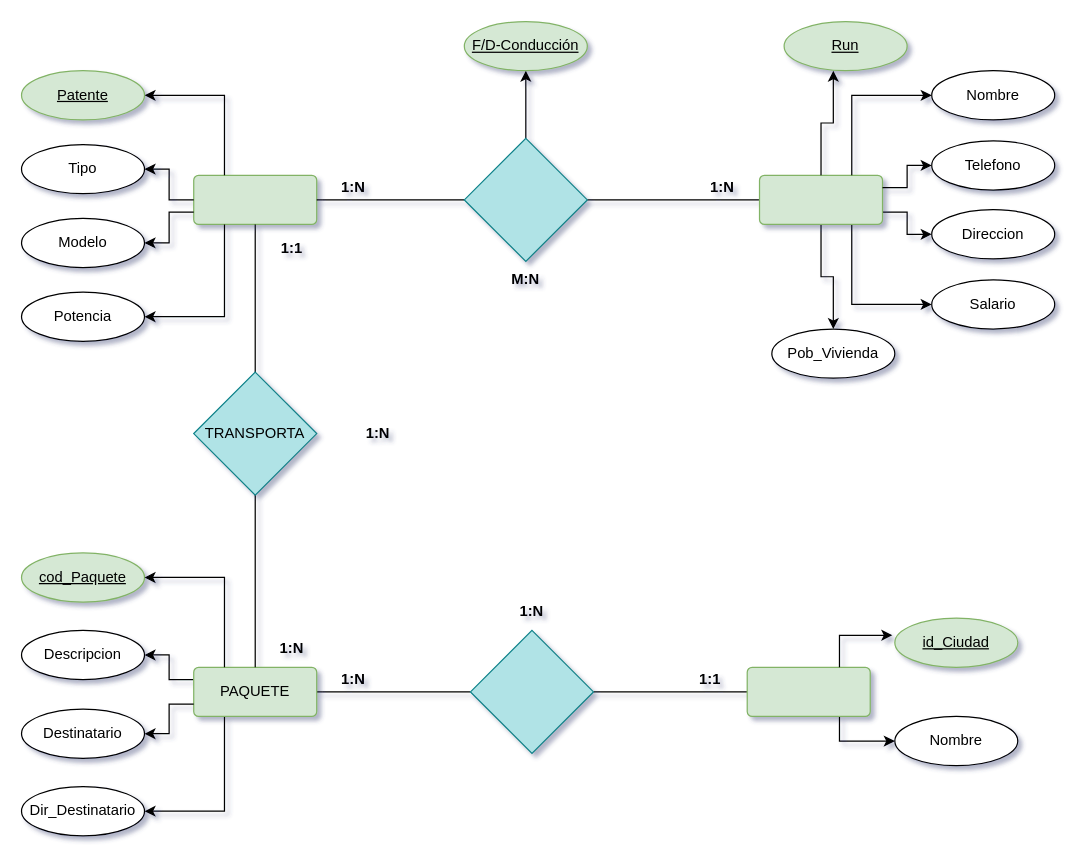
The diagram is 1084 pixels wide and 865 high, and some of its shapes have lost their labels. The centre of each missing label's shape, as x and y in pixels:
CAMION: pixel 254 199
CAMIONERO: pixel 820 199
CIUDAD: pixel 808 691
CONDUCE: pixel 525 199
ENTREGA: pixel 531 691
